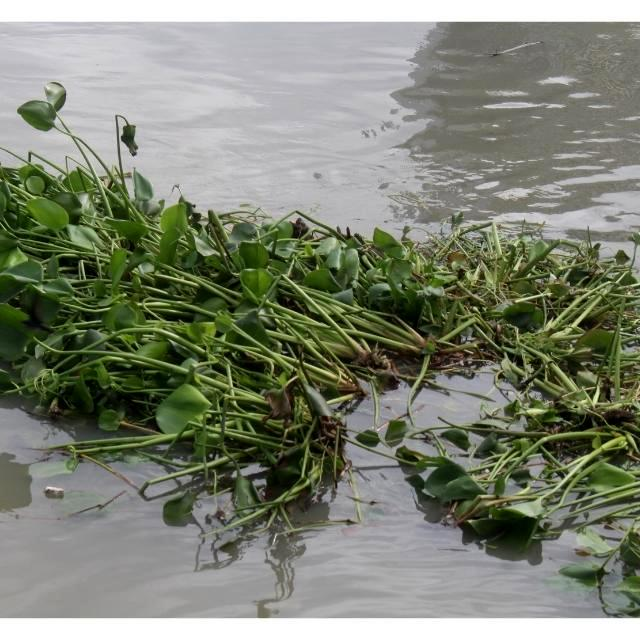water-hyacinth: (1, 87, 640, 590)
